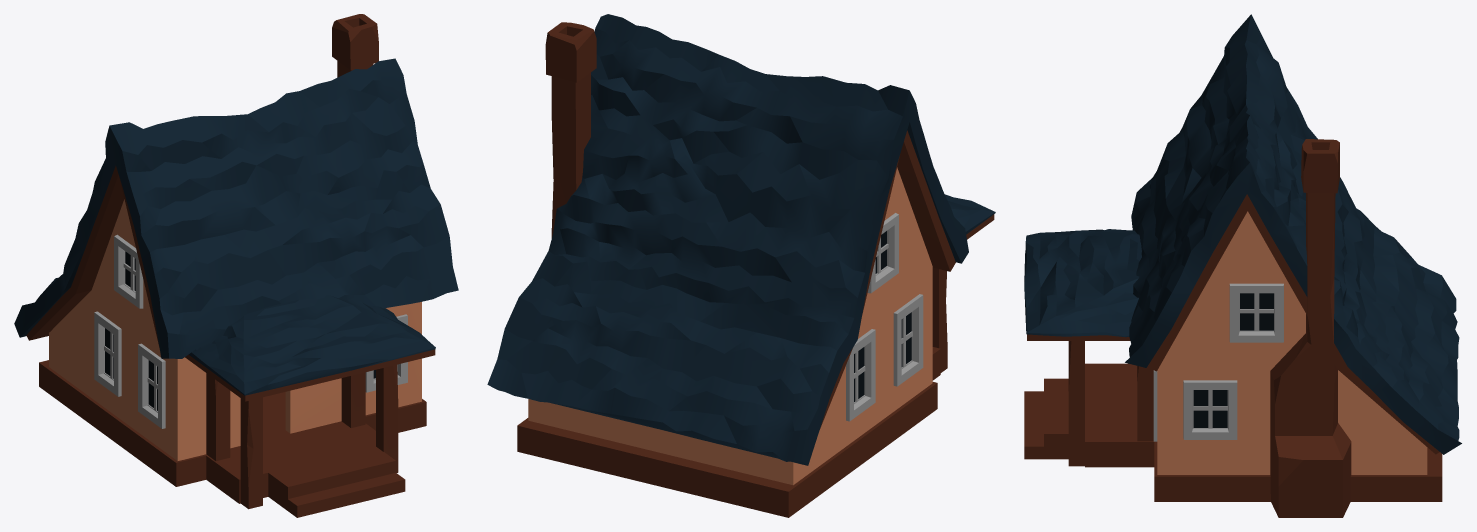
Rendered from House_9.001.fbx.
3 views of the same model, side by side, from view 1: azimuth 30°, elevation 25°; view 2: azimuth 150°, elevation 25°; view 3: azimuth 270°, elevation 25° (orthographic). The views are drawn at different scales.
Visible parts, largest first — view 1: House_9.001; view 2: House_9.001; view 3: House_9.001.
Boxes of the visible parts, x1,y1,x2,y2 form: House_9.001: [14, 14, 458, 517]; House_9.001: [487, 14, 995, 517]; House_9.001: [1024, 14, 1461, 517].
Bounding box in the file's own units: 190 × 203 × 224.
